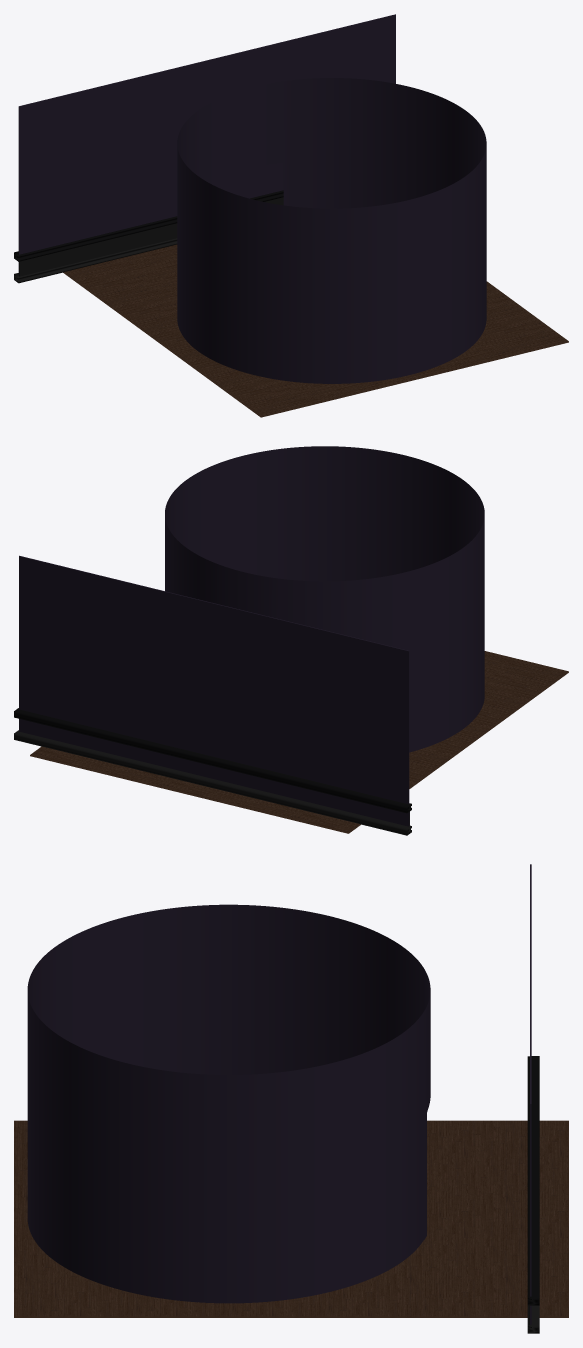
The model's file is Interior_RoundRoom_Black.glb.
The picture shows the model from 3 angles, top to bottom: view 1: azimuth 30°, elevation 25°; view 2: azimuth 150°, elevation 25°; view 3: azimuth 270°, elevation 25°; orthographic projection. The views are drawn at different scales.
Visible parts, largest first — view 1: Cylinder, Wall Outside, Floor, Wall Outside Bottom, Outside Top Boarder, Outside Trim; view 2: Wall Outside, Cylinder, Floor, Outside Top Boarder, Outside Trim; view 3: Cylinder, Floor, Outside Top Boarder, Wall Outside.
Part boxes in pixels (x1,y1,x2,y2): Cylinder: (177,78,486,383); Wall Outside: (18,14,395,275); Floor: (63,244,568,417); Wall Outside Bottom: (19,197,283,276); Outside Top Boarder: (14,190,283,261); Outside Trim: (14,238,177,283); Wall Outside: (19,555,409,826); Cylinder: (165,446,484,752); Floor: (30,651,568,833); Outside Top Boarder: (14,708,411,813); Outside Trim: (14,730,411,835); Cylinder: (27,904,430,1303); Floor: (14,1120,568,1317); Outside Top Boarder: (527,1056,539,1305); Wall Outside: (530,864,531,1324).
Size of the model in its own units: 44.45 by 19.74 by 43.14.
8 materials, 2 textured.
